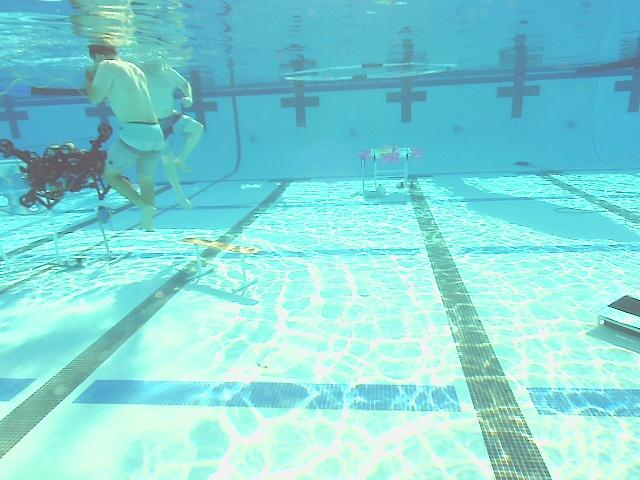dropper: (599, 289, 638, 339)
table: (358, 146, 426, 198)
